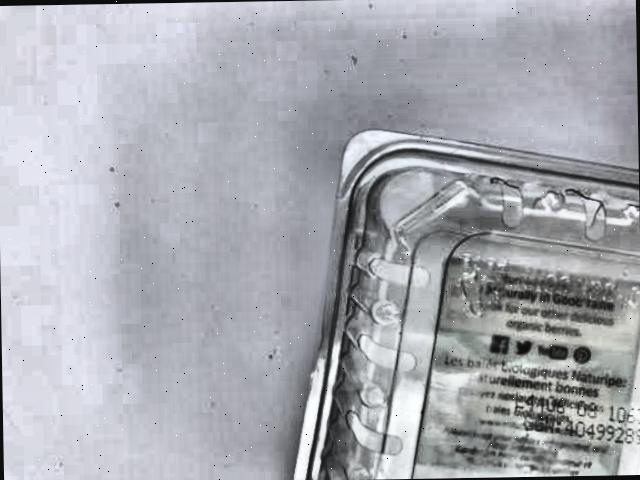Plastic: (293, 109, 640, 480)
